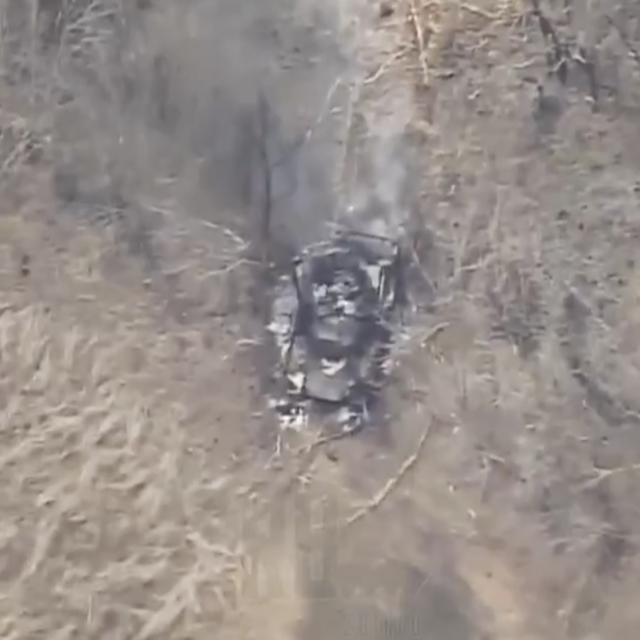vehicle: (282, 226, 400, 408)
